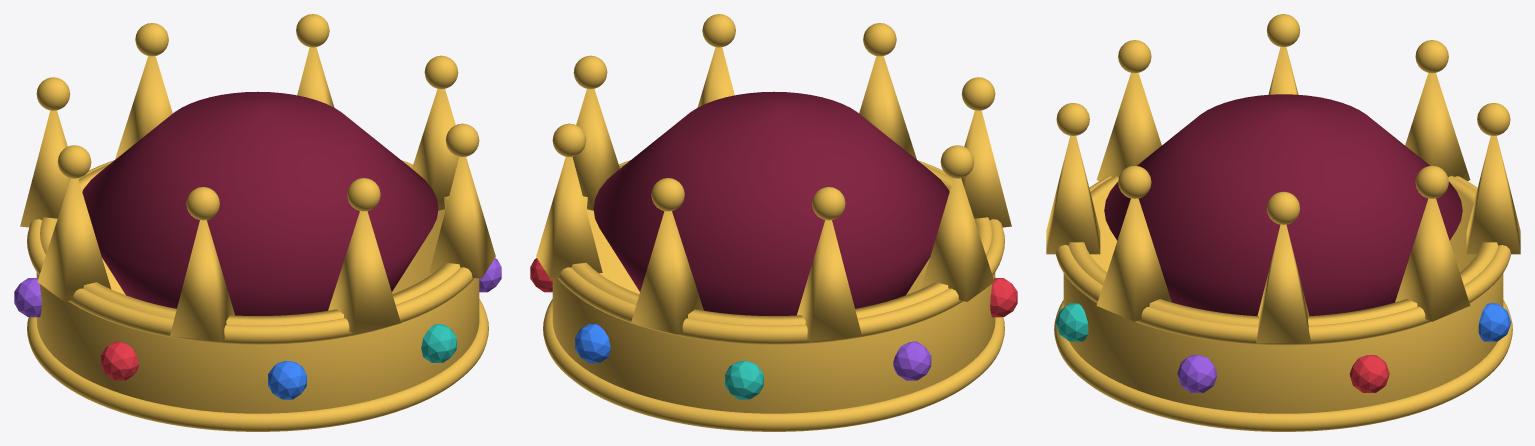
The picture shows the model from 3 angles, left to right: view 1: azimuth 30°, elevation 25°; view 2: azimuth 150°, elevation 25°; view 3: azimuth 270°, elevation 25°; orthographic projection.
Visible parts, largest first — view 1: part_27, part_0, part_1, part_2, part_21, part_15, part_18, part_24, part_12, part_3, part_9, part_20 (+13 smaller); view 2: part_27, part_0, part_1, part_2, part_9, part_15, part_12, part_6, part_18, part_3, part_21, part_11 (+13 smaller); view 3: part_27, part_0, part_1, part_2, part_6, part_24, part_3, part_9, part_21, part_12, part_18, part_5 (+12 smaller).
Part boxes in pixels (x1,y1,x2,y2): part_27: (82, 91, 438, 315); part_0: (36, 164, 479, 413); part_1: (27, 299, 488, 431); part_2: (27, 160, 474, 344); part_21: (328, 211, 400, 334); part_15: (37, 178, 110, 301); part_18: (170, 220, 234, 341); part_24: (429, 156, 495, 278); part_12: (20, 110, 70, 227); part_3: (412, 89, 459, 210); part_9: (115, 56, 172, 159); part_20: (268, 361, 306, 399); part_27: (593, 91, 949, 315); part_0: (552, 164, 995, 413); part_1: (543, 299, 1004, 431); part_2: (557, 160, 1004, 344); part_9: (631, 211, 703, 334); part_15: (921, 178, 994, 301); part_12: (797, 220, 861, 341); part_6: (536, 156, 602, 278); part_18: (961, 110, 1011, 227); part_3: (572, 89, 619, 210); part_21: (859, 56, 916, 159); part_11: (725, 361, 763, 399); part_27: (1104, 94, 1462, 316); part_0: (1063, 175, 1503, 413); part_1: (1054, 300, 1512, 431); part_2: (1055, 176, 1511, 345); part_6: (1395, 198, 1470, 321); part_24: (1096, 198, 1171, 321); part_3: (1256, 224, 1310, 343); part_9: (1466, 135, 1520, 254); part_21: (1046, 135, 1100, 254); part_12: (1405, 72, 1470, 180); part_18: (1096, 72, 1161, 180); part_5: (1349, 355, 1389, 392).
Bounding box in the file's own units: 1.99 × 1.09 × 1.99.
